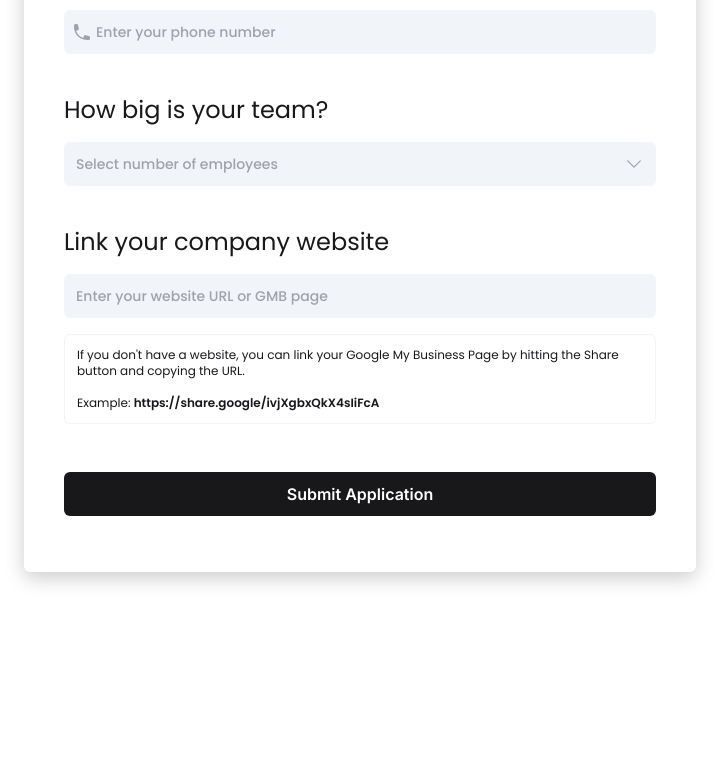
MoverSignUpForm › Accessibility › maintains accessibility with error state
The image size is (721, 764).
(page scrolled)
Click the button "Submit Application" at (360, 494), box left=64, top=472, right=656, bottom=516
(page scrolled)
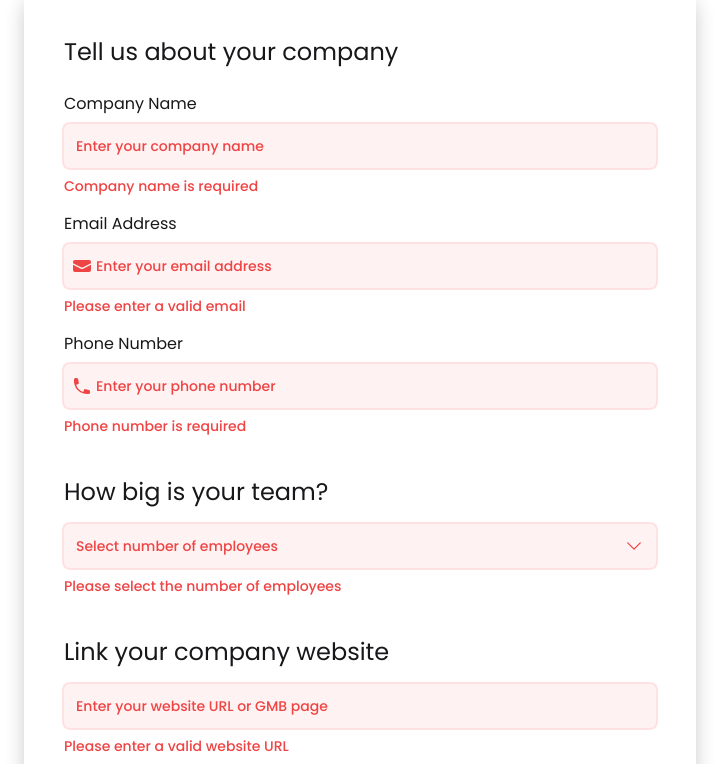
Check: the text "Company name is required" is shown, box left=64, top=176, right=258, bottom=196
